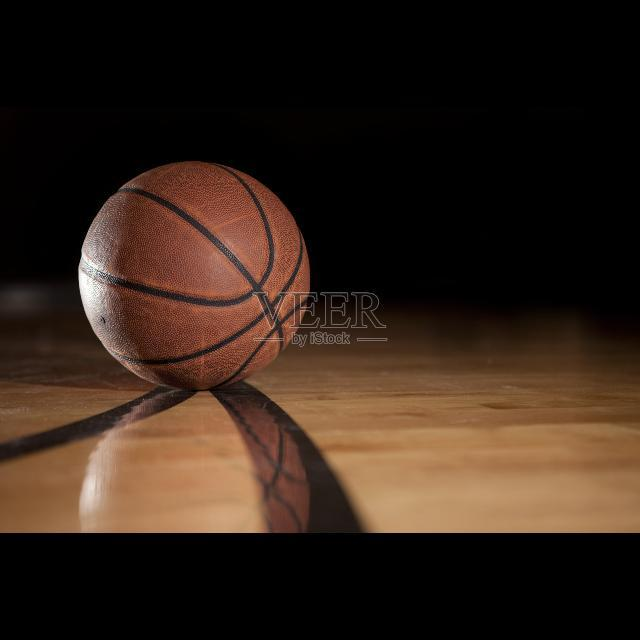basketball: (80, 162, 310, 390)
